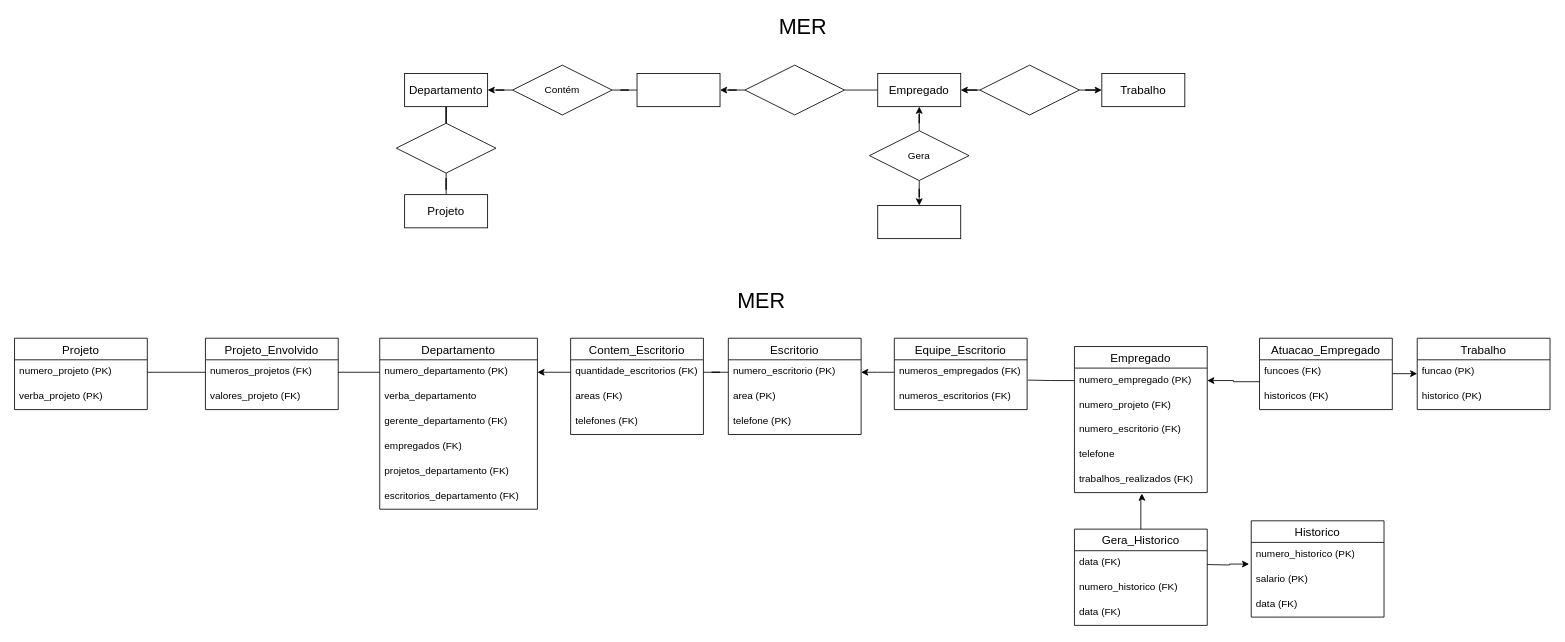
Some shapes in this 1565 by 642 pixel diagram are drawn without their labels. Here are the shapes that lost their labels. From the top down, the centre of each, then its label:
At [678,90]: "Escritório".
At [794,89]: "Possui".
At [1029,89]: "Atua".
At [445,147]: "Envolve".
At [919,222]: "Histórico".
